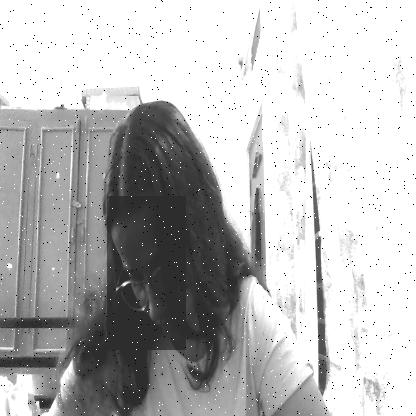Distracted: (107, 197, 186, 350)
